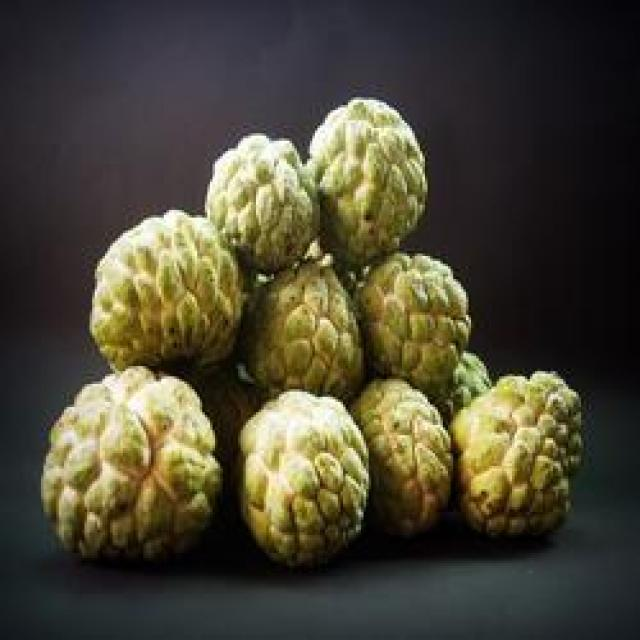apple: (23, 368, 233, 584), (79, 204, 251, 368), (238, 371, 371, 581), (448, 364, 589, 550), (310, 84, 425, 269)
